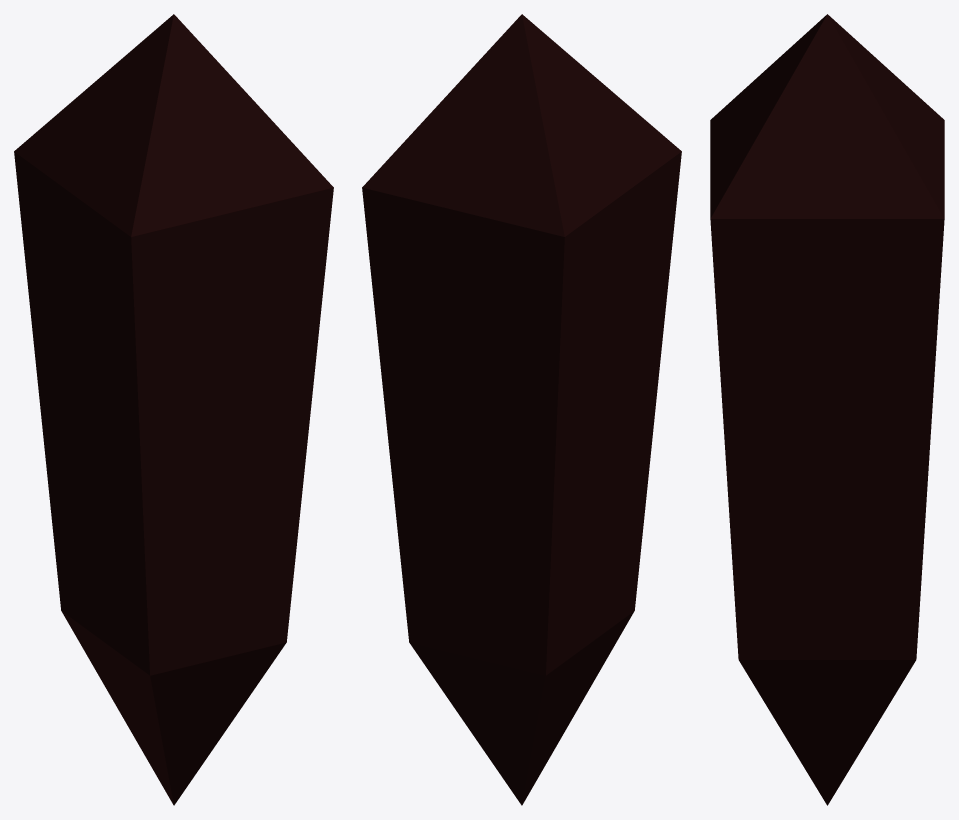
File: right_leg_lower.obj
The picture shows the model from 3 angles, left to right: view 1: azimuth 30°, elevation 25°; view 2: azimuth 150°, elevation 25°; view 3: azimuth 270°, elevation 25°; orthographic projection.
Visible parts, largest first — view 1: right_leg_lower; view 2: right_leg_lower; view 3: right_leg_lower.
Boxes of the visible parts, bbox=[...] form: right_leg_lower: bbox=[14, 14, 333, 805]; right_leg_lower: bbox=[362, 14, 681, 805]; right_leg_lower: bbox=[710, 14, 944, 805].
Bounding box in the file's own units: 0.5937 × 2.22 × 0.5937.
